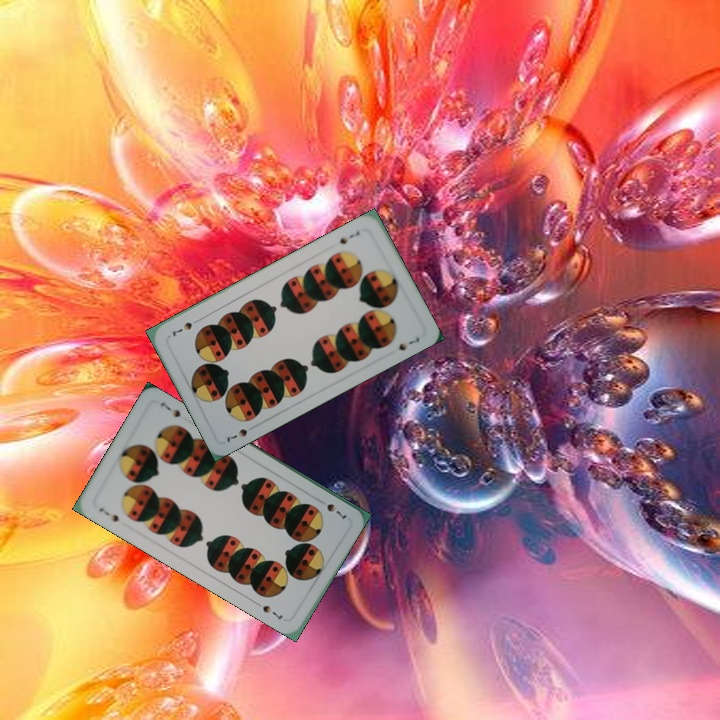S7: (314, 495, 349, 521), (222, 424, 250, 445), (94, 504, 121, 525), (335, 227, 362, 247)
